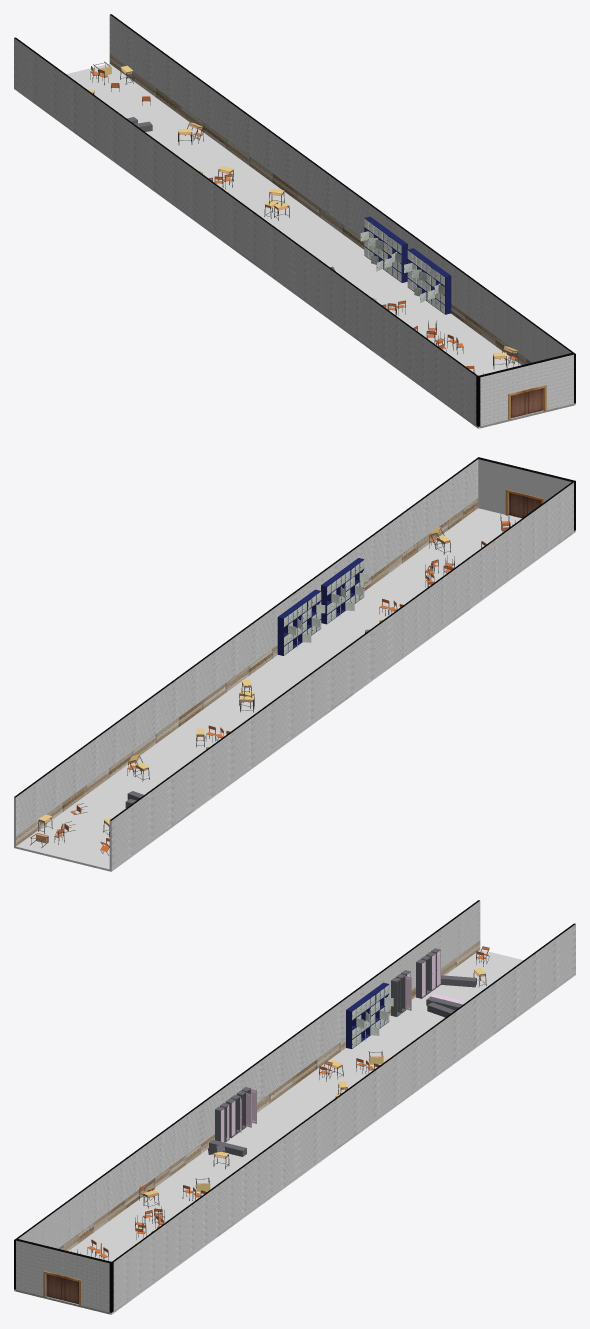
The model's file is Pasillo Final Terminado.fbx.
3 views of the same model, one above another, from view 1: azimuth 30°, elevation 25°; view 2: azimuth 150°, elevation 25°; view 3: azimuth 330°, elevation 25° (orthographic).
Visible parts, largest first — view 1: Pasillo Final, オブジェクト_189.001, Silla N40.021, Mesa N40.033; view 2: Pasillo Final, オブジェクト_189.001, Silla N40.021, Mesa N40.033; view 3: Pasillo Final, casillero 7, オブジェクト_189.006, casillero 7.001, Silla N40.021, Mesa N40.033, puerta casillero 1.001, puerta casillero 1.
Part boxes in pixels (bbox=[...]): Pasillo Final: bbox=[14, 14, 575, 428]; オブジェクト_189.001: bbox=[360, 216, 451, 314]; Silla N40.021: bbox=[90, 66, 518, 374]; Mesa N40.033: bbox=[87, 61, 517, 368]; Pasillo Final: bbox=[14, 457, 575, 871]; オブジェクト_189.001: bbox=[277, 558, 368, 655]; Silla N40.021: bbox=[54, 514, 515, 855]; Mesa N40.033: bbox=[30, 527, 450, 848]; Pasillo Final: bbox=[14, 900, 575, 1314]; casillero 7: bbox=[391, 948, 476, 1017]; オブジェクト_189.006: bbox=[346, 982, 393, 1048]; casillero 7.001: bbox=[208, 1087, 251, 1156]; Silla N40.021: bbox=[71, 946, 489, 1260]; Mesa N40.033: bbox=[143, 968, 486, 1208]; puerta casillero 1.001: bbox=[221, 1089, 256, 1142]; puerta casillero 1: bbox=[405, 950, 463, 1010].
Bounding box in the file's own units: 1040 × 520 × 8590.
19 materials, 5 textured.
